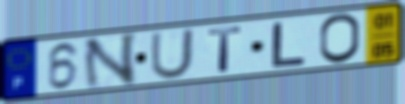6: (46, 41, 80, 90)
L: (269, 21, 308, 69)
N: (80, 30, 140, 92)
O: (318, 12, 363, 66)
T: (205, 24, 245, 74)
U: (148, 27, 197, 81)
